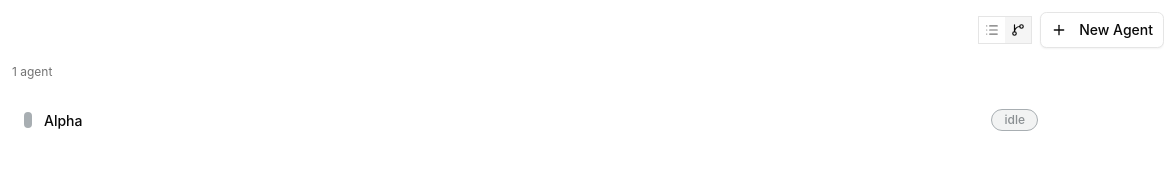
Agents › keeps row membership actions reachable while hiding star actions on mobile
Click the button named "List view" at (992, 30), box [979, 17, 1005, 43]
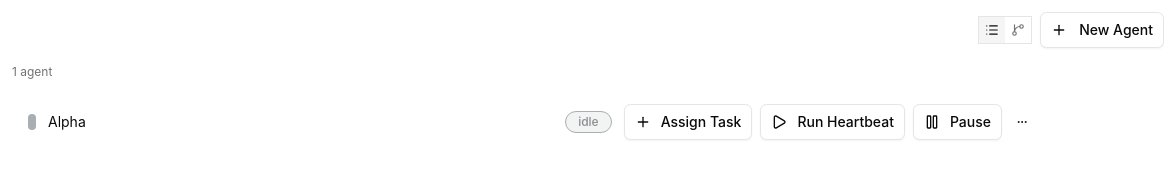
Now the element named "Star Alpha" is shown, box [532, 104, 1070, 140]
